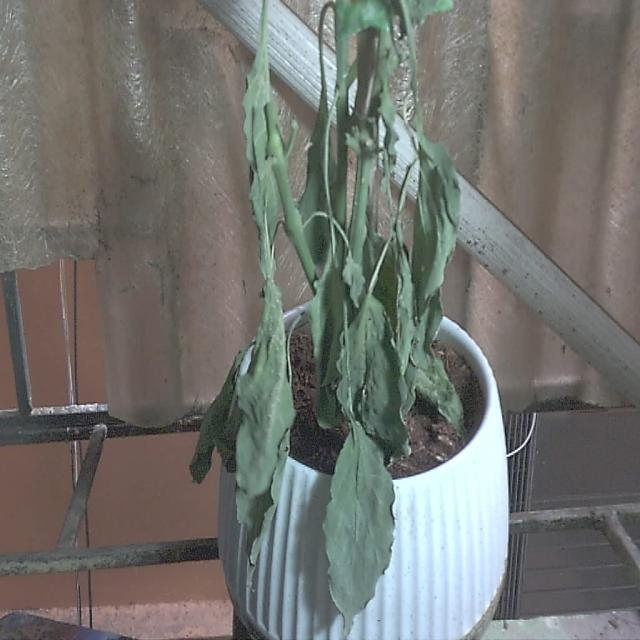Leaf: (324, 422, 394, 634), (236, 281, 294, 495), (190, 350, 246, 482)
